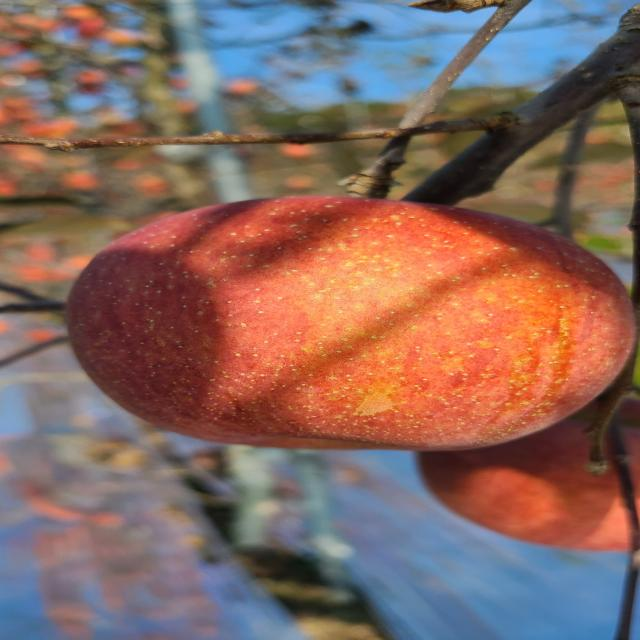fresh: (47, 190, 640, 460)
